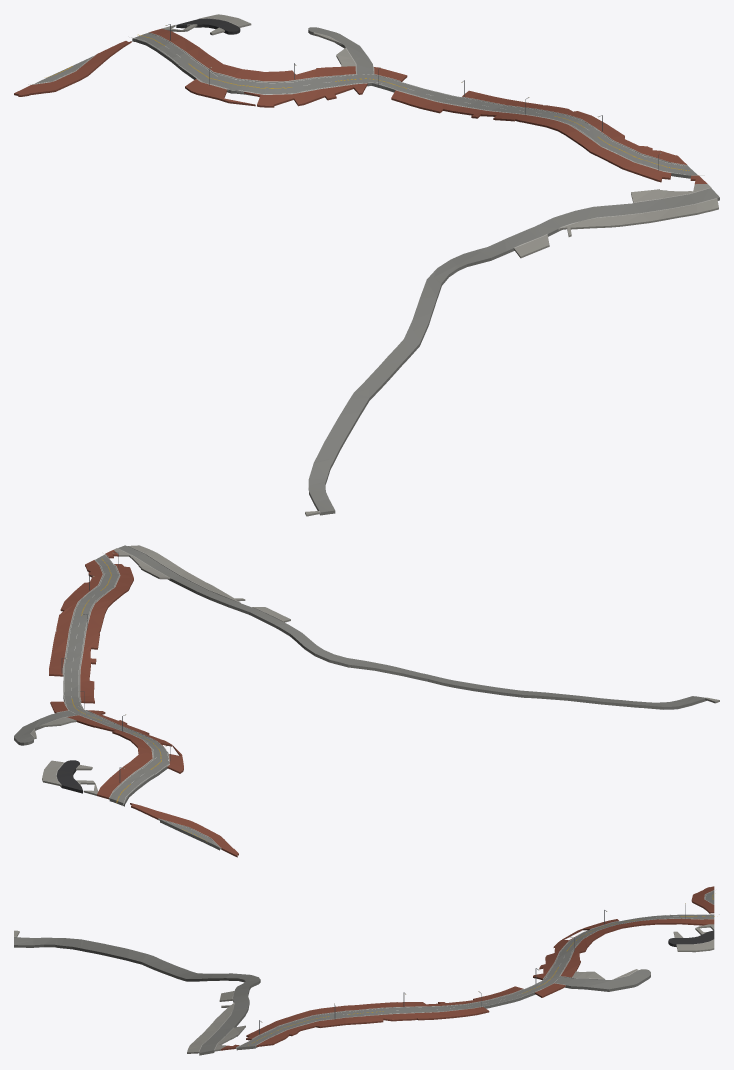
The picture shows the model from 3 angles, top to bottom: view 1: azimuth 30°, elevation 25°; view 2: azimuth 150°, elevation 25°; view 3: azimuth 270°, elevation 25°; orthographic projection. The views are drawn at different scales.
Bounding box in the file's own units: 221 × 62.55 × 294.
